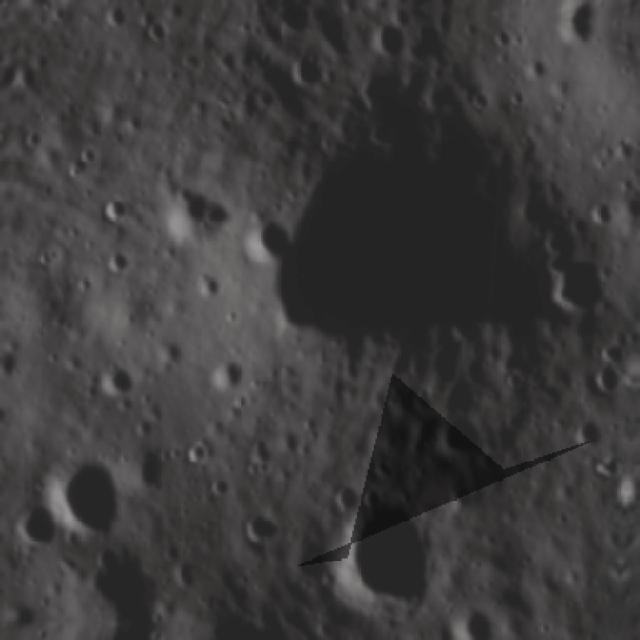crater: (247, 60, 605, 382), (297, 479, 454, 632), (42, 444, 141, 554), (160, 164, 242, 245), (90, 344, 144, 407), (95, 192, 136, 230)
